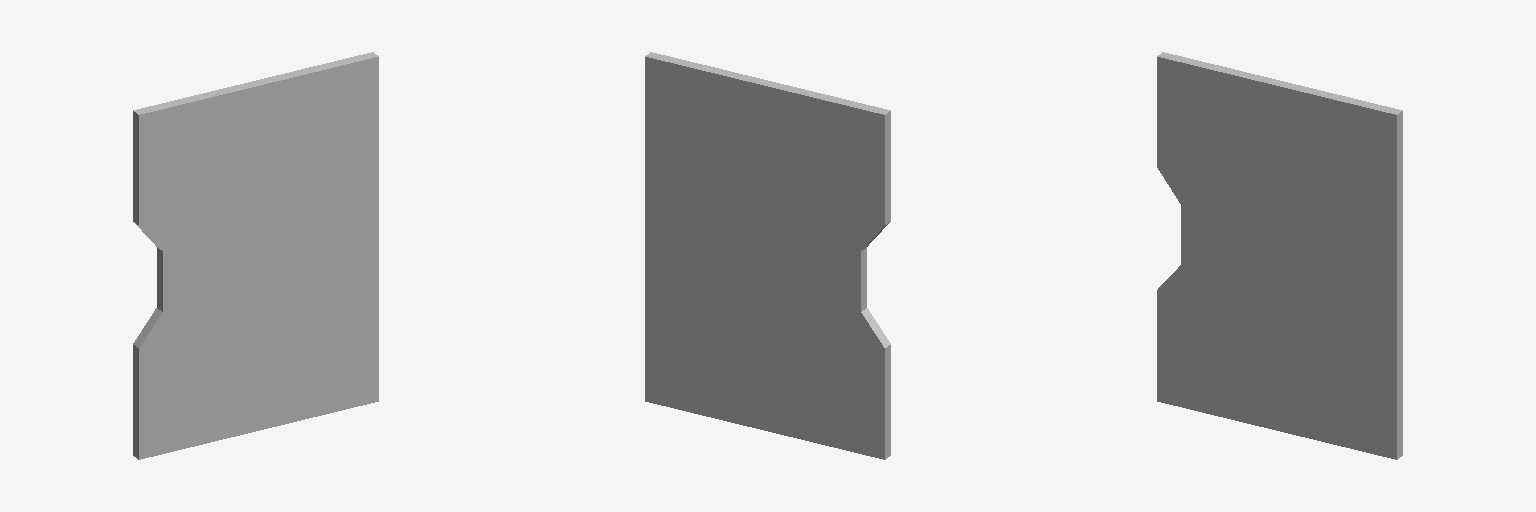
Rendered from door_right.obj.
3 renders of one model, left to right at view 1: azimuth 30°, elevation 25°; view 2: azimuth 150°, elevation 25°; view 3: azimuth 330°, elevation 25°, orthographic.
Parts seen in each view (by area): view 1: door_right_Plane.006; view 2: door_right_Plane.006; view 3: door_right_Plane.006.
Boxes of the visible parts, <box> form: door_right_Plane.006: <box>133,52,378,459</box>; door_right_Plane.006: <box>645,52,890,459</box>; door_right_Plane.006: <box>1157,52,1402,459</box>.
Bounding box in the file's own units: 2.43 × 3.34 × 0.1085.